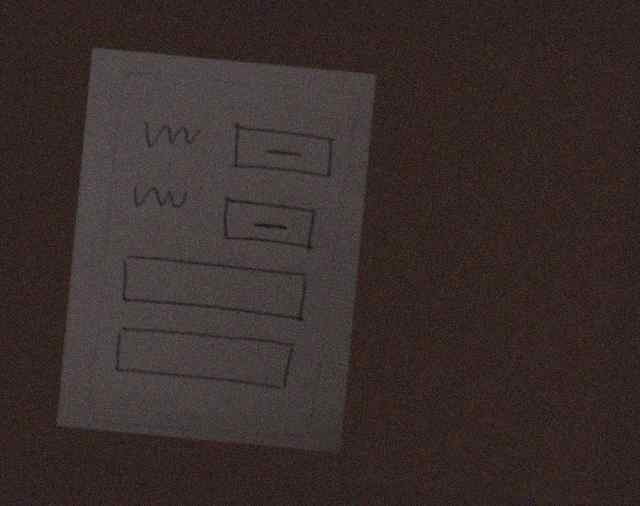button: (225, 118, 340, 186), (216, 192, 324, 256)
text: (136, 115, 205, 157), (128, 179, 190, 218)
text_input: (115, 250, 313, 326), (107, 321, 300, 396)
